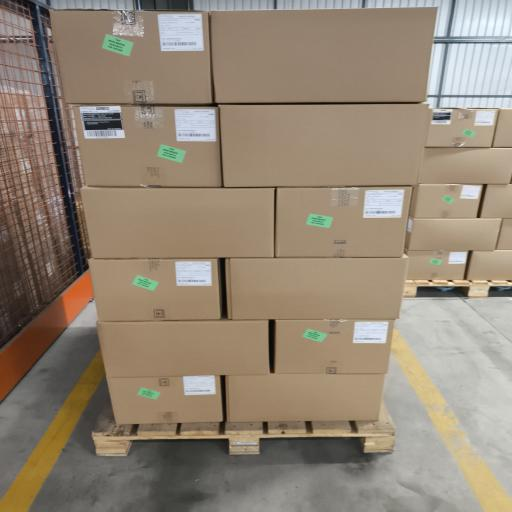pallet: (93, 405, 395, 456), (404, 280, 511, 297)
